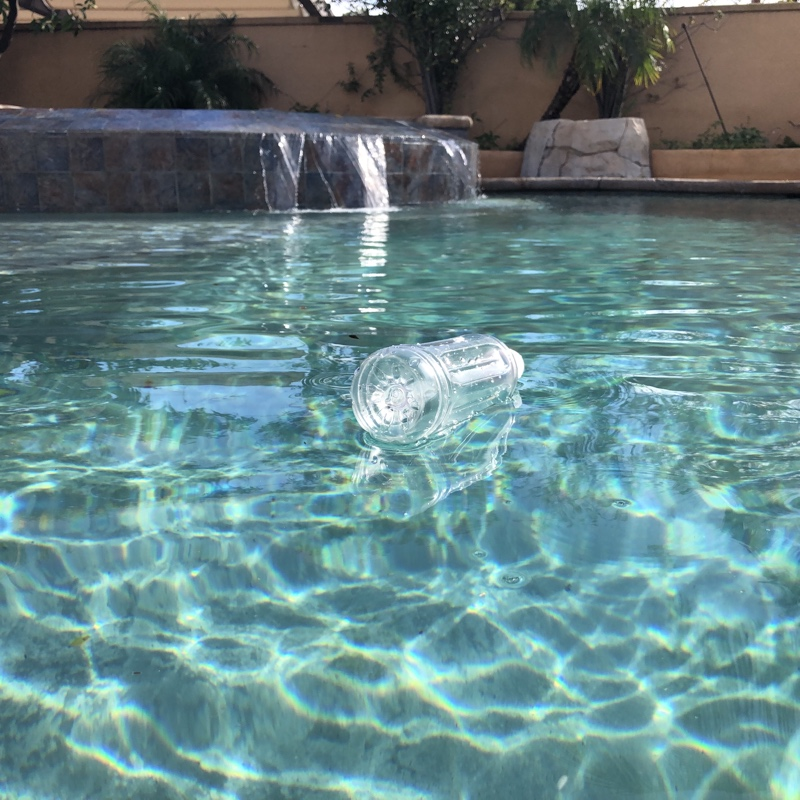Plastic Bottle: (350, 329, 526, 448)
